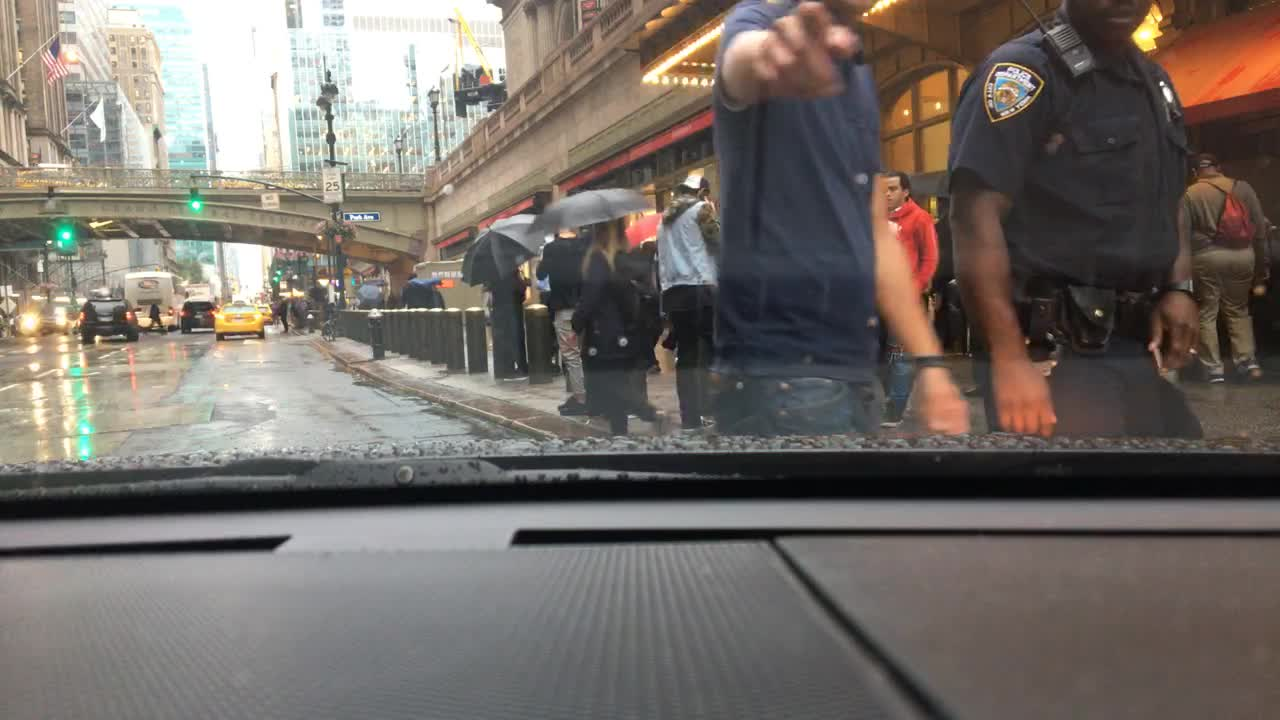bus: (119, 272, 182, 331)
car: (79, 298, 142, 341), (10, 299, 72, 339), (223, 302, 263, 336), (181, 297, 216, 334), (259, 302, 274, 322)
person: (953, 0, 1205, 448), (715, 0, 974, 435), (542, 181, 664, 433), (1175, 141, 1274, 388), (648, 162, 727, 428), (873, 169, 943, 428), (530, 209, 596, 414), (462, 214, 534, 386), (401, 269, 427, 306), (145, 299, 169, 331), (423, 273, 445, 306), (360, 284, 386, 309), (275, 294, 292, 331)
traffic light: (58, 218, 71, 252), (190, 182, 198, 210), (347, 272, 362, 285), (275, 266, 288, 277), (269, 277, 282, 285)
traffic sign: (322, 164, 344, 204), (338, 210, 379, 221), (263, 194, 278, 207)
